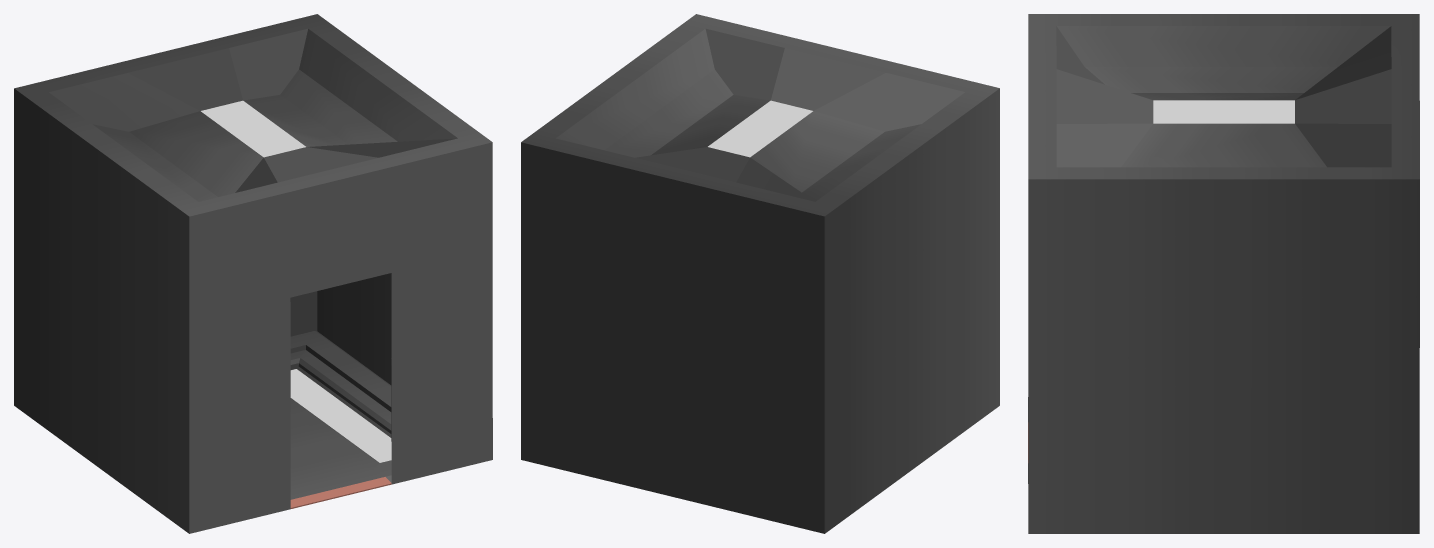
The model's file is Room_replacement.fbx.
The picture shows the model from 3 angles, left to right: view 1: azimuth 30°, elevation 25°; view 2: azimuth 150°, elevation 25°; view 3: azimuth 270°, elevation 25°; orthographic projection. The views are drawn at different scales.
Parts seen in each view (by area): view 1: room; view 2: room; view 3: room.
Boxes of the visible parts, left/top/right/bottom form: room: left=14, top=14, right=492, bottom=533; room: left=521, top=14, right=999, bottom=533; room: left=1028, top=14, right=1419, bottom=533.
Bounding box in the file's own units: 300 × 307 × 300.
